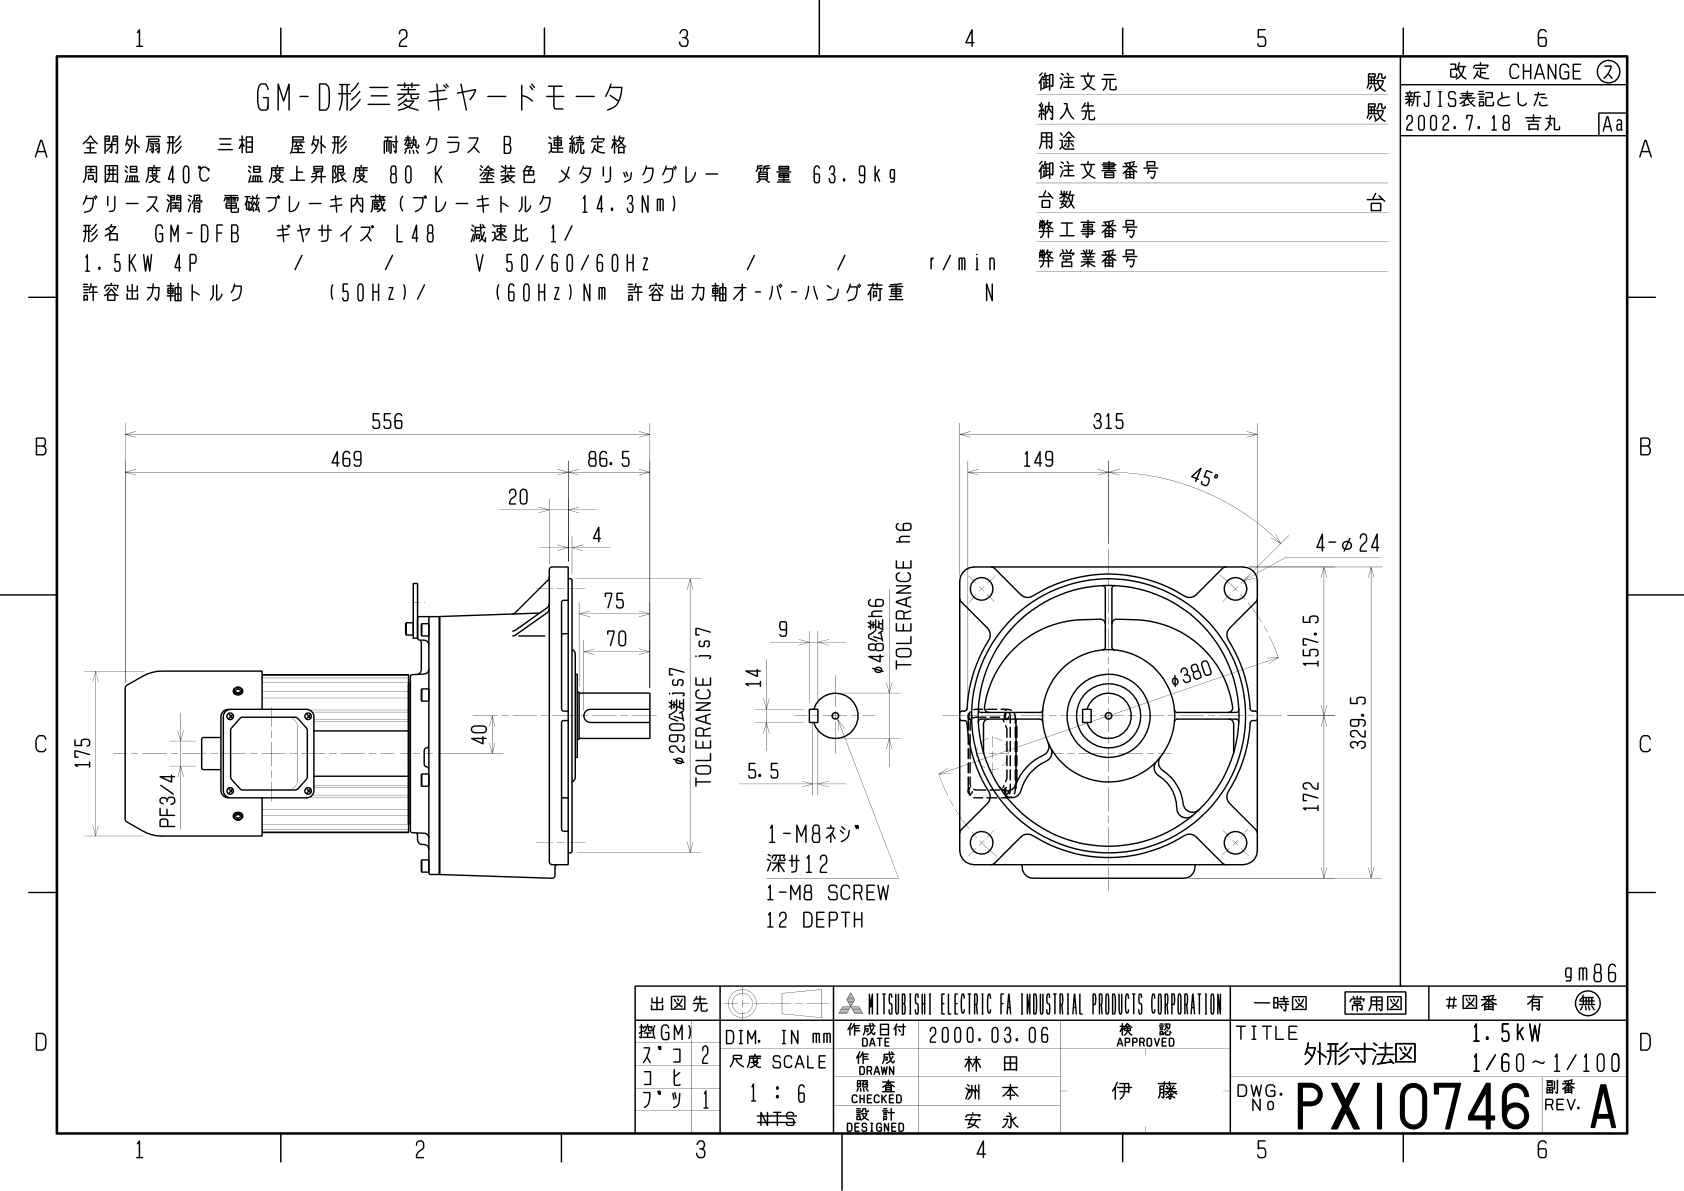GM_D_屋外＿三相_フランジ: (73, 365, 1389, 963)
